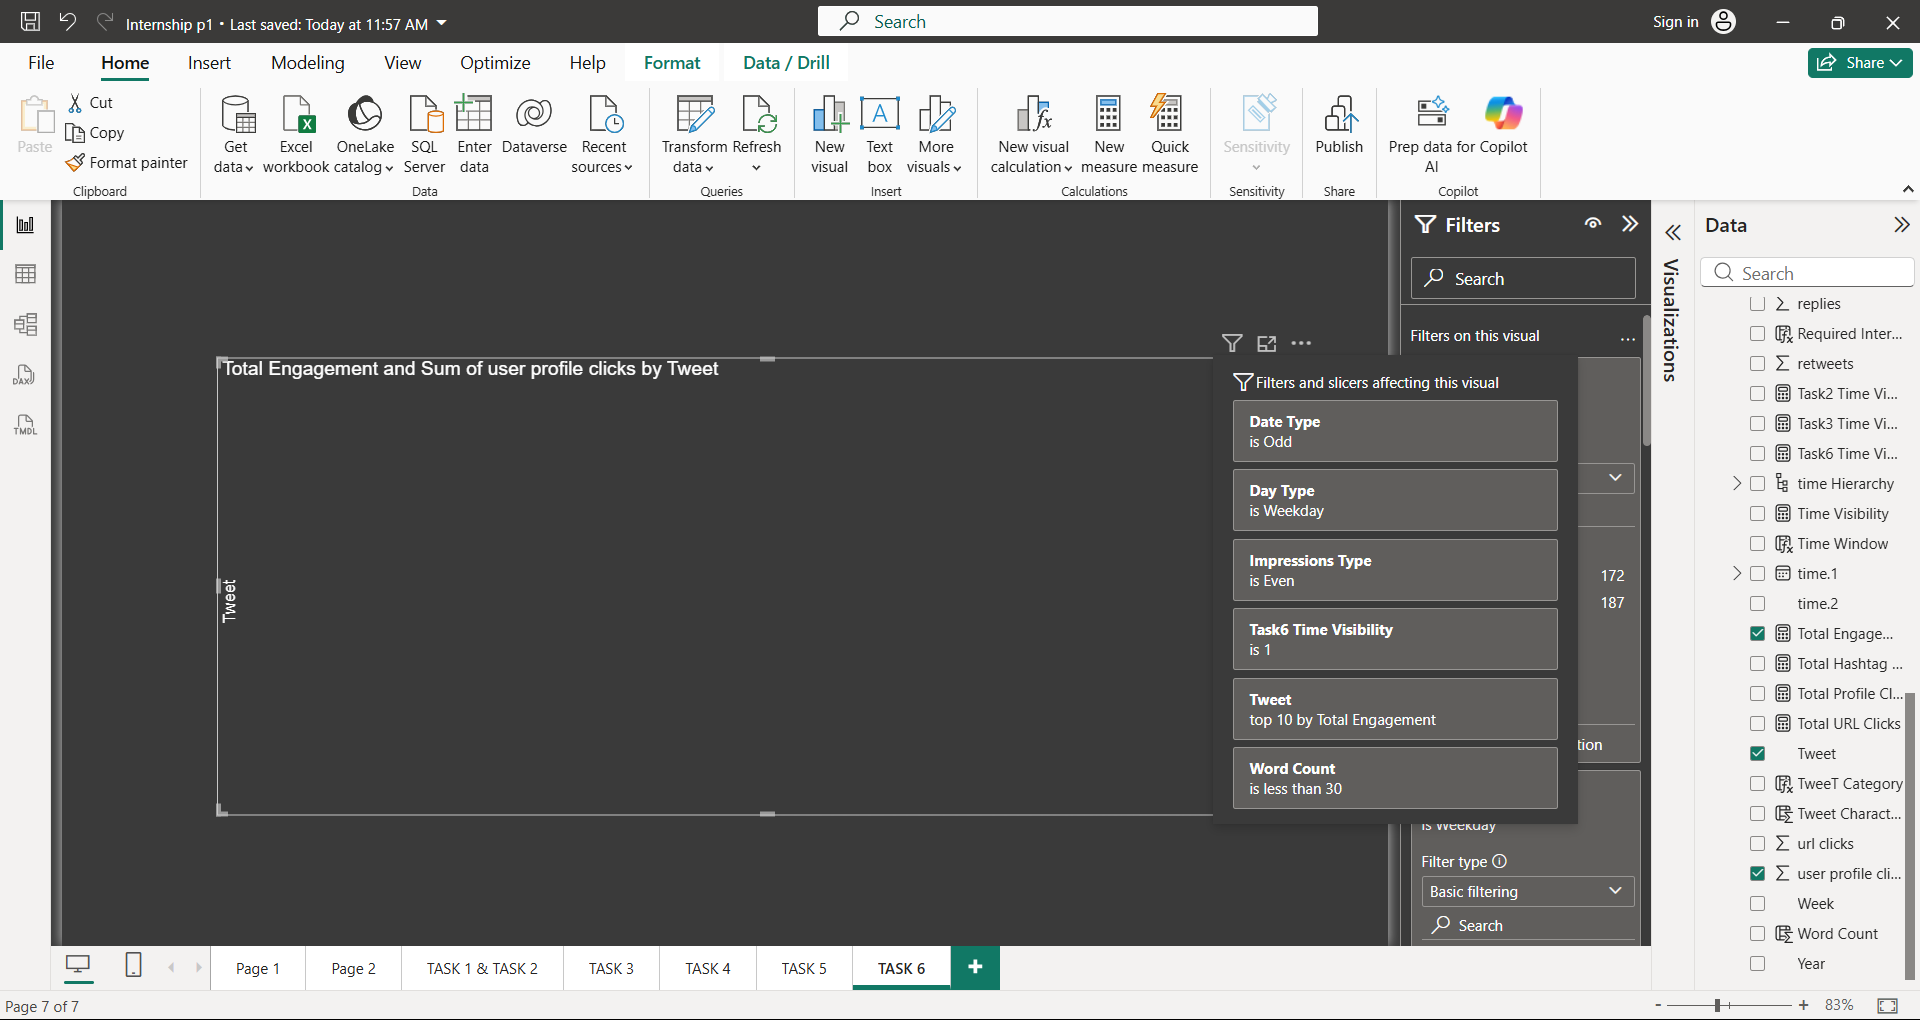

This screenshot's page, from the dashboard's own definition file:
{"tool":"powerbi","page":{"name":"TASK 6","canvas":[1280,720],"ordinal":6},"visuals":[{"type":"clusteredBarChart","fields":{"Category":["SocialMedia (1).Tweet"],"Y":["SocialMedia (1).Total Engagement"]},"box":[149.6,152,1061.7,441.6],"z":1}]}

Visuals, with their boxes on the page's 1280x720 design canvas (x1, y1, x2, y2). These are canvas units, not pixel positions in the 1920x1020 screenshot, which may show the page scaled, cropped or inside an application window:
clusteredBarChart - SocialMedia (1).Tweet x SocialMedia (1).Total Engagement: 150,152,1211,594
